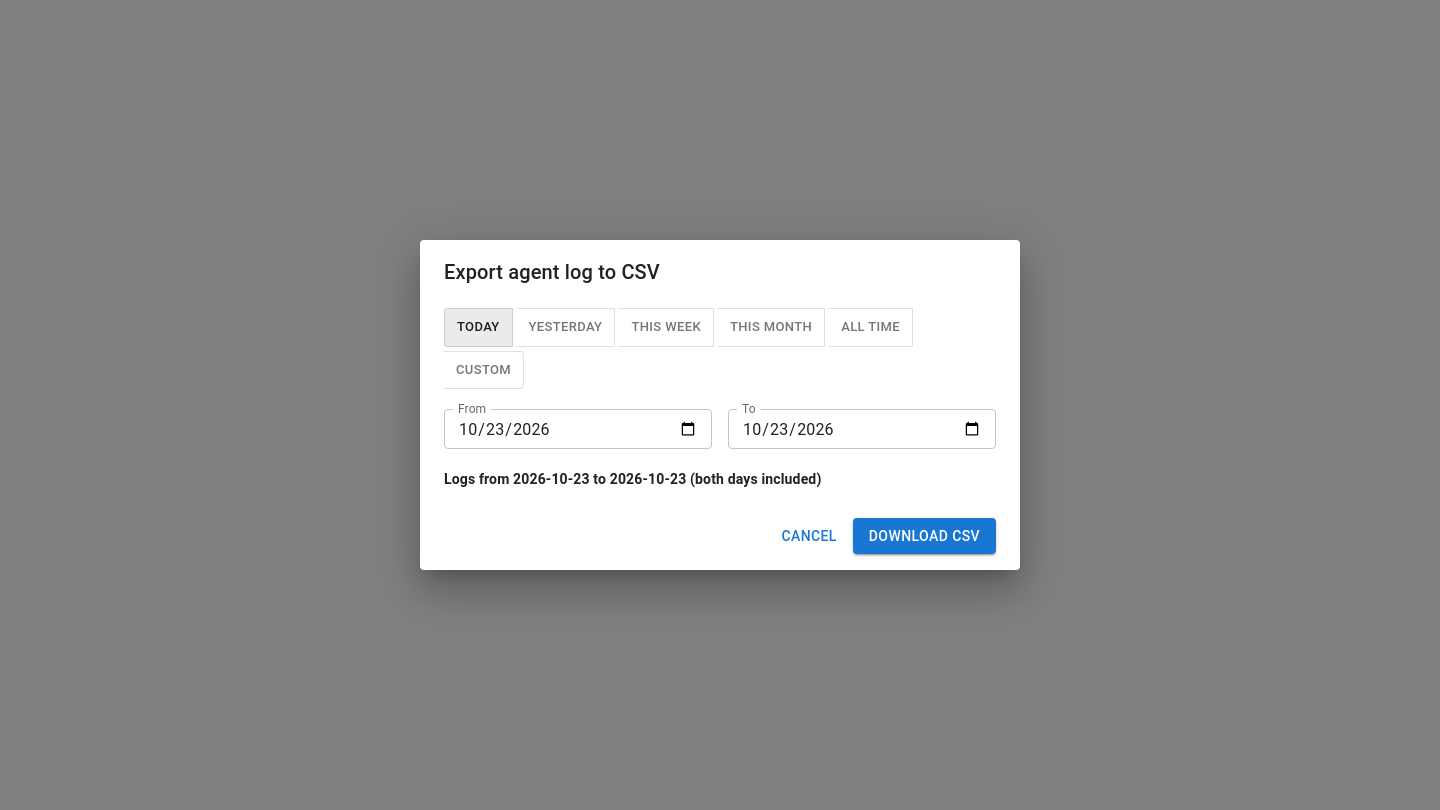
Test: ExportCsvDialog › clears the dates for all time
The width and height of the screenshot is (1440, 810).
Click the button "All time" at (871, 327), box [828,308,913,347]
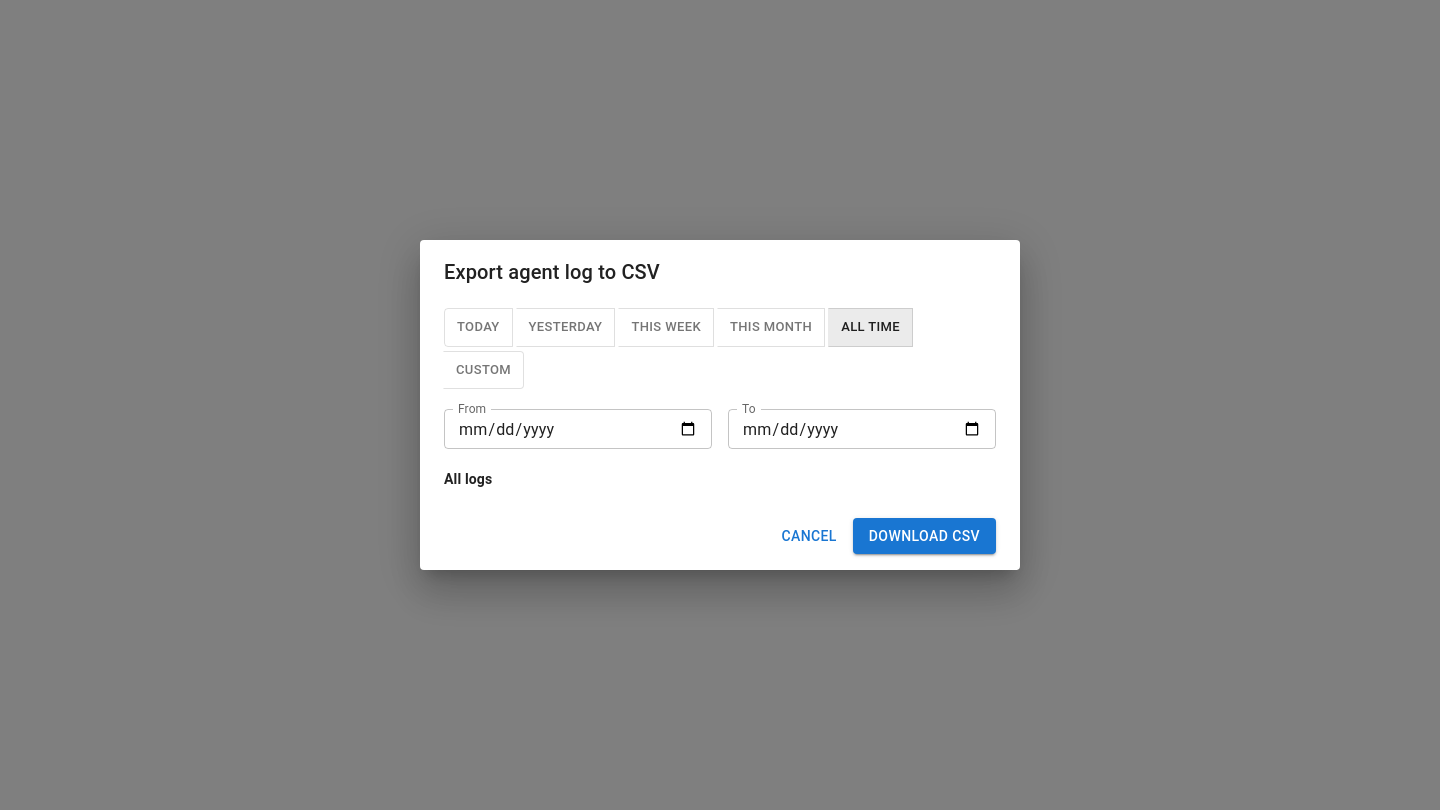
Expected: the date field labelled "From" is empty, [444,410,712,450]
Expected: the date field labelled "To" is empty, [728,410,996,450]
Expected: the text "All logs" is shown, [444,472,492,488]
